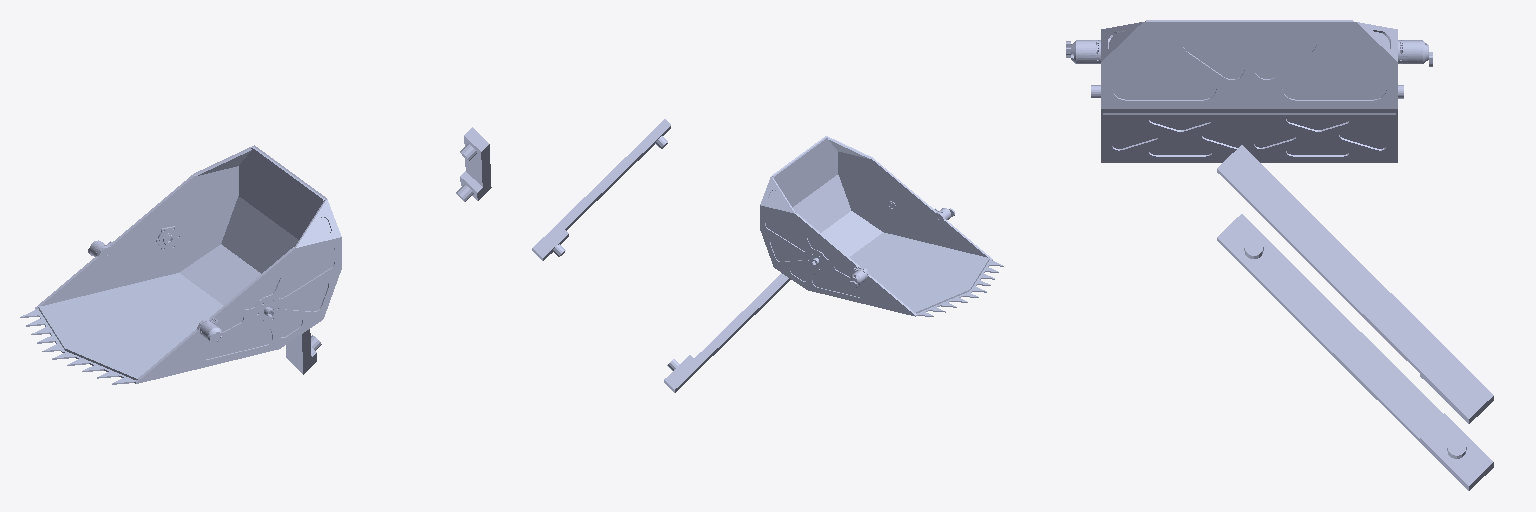
URDF robot description (URDF):
<?xml version="1.0" encoding="utf-8"?>
<!-- This URDF was automatically created by SolidWorks to URDF Exporter! Originally created by Stephen Brawner (brawner@gmail.com) 
     Commit Version: 1.6.0-4-g7f85cfe  Build Version: 1.6.7995.38578
     For more information, please see http://wiki.ros.org/sw_urdf_exporter -->
<robot
  name="URDF">
  <link
    name="base_link">
    <inertial>
      <origin
        xyz="0.182758906345787 -0.0134484847664763 0.137652991114369"
        rpy="0 0 0" />
      <mass
        value="72.4624120965553" />
      <inertia
        ixx="1.03698391979459"
        ixy="-0.000210701729020981"
        ixz="-0.116314675037364"
        iyy="2.85903838282278"
        iyz="-2.4157035399676E-05"
        izz="2.93860969077668" />
    </inertial>
    <visual>
      <origin
        xyz="0 0 0"
        rpy="0 0 0" />
      <geometry>
        <mesh
          filename="package://URDF/meshes/base_link.STL" />
      </geometry>
      <material
        name="">
        <color
          rgba="0.792156862745098 0.819607843137255 0.933333333333333 1" />
      </material>
    </visual>
    <collision>
      <origin
        xyz="0 0 0"
        rpy="0 0 0" />
      <geometry>
        <mesh
          filename="package://URDF/meshes/base_link.STL" />
      </geometry>
    </collision>
  </link>
  <link
    name="Linkage">
    <inertial>
      <origin
        xyz="0.00701003026328413 0.168459146317716 0.228641447261614"
        rpy="0 0 0" />
      <mass
        value="1.33787486310773" />
      <inertia
        ixx="0.00907006794581363"
        ixy="7.52717382370763E-06"
        ixz="-5.86003487004915E-06"
        iyy="0.00606529695807179"
        iyz="-0.00402466496126211"
        izz="0.00356221856912841" />
    </inertial>
    <visual>
      <origin
        xyz="0 0 0"
        rpy="0 0 0" />
      <geometry>
        <mesh
          filename="package://URDF/meshes/Linkage.STL" />
      </geometry>
      <material
        name="">
        <color
          rgba="0.792156862745098 0.819607843137255 0.933333333333333 1" />
      </material>
    </visual>
    <collision>
      <origin
        xyz="0 0 0"
        rpy="0 0 0" />
      <geometry>
        <mesh
          filename="package://URDF/meshes/Linkage.STL" />
      </geometry>
    </collision>
  </link>
  <joint
    name="Linkage"
    type="revolute">
    <origin
      xyz="-0.3396 0 0.23219"
      rpy="2.1933 0 -1.5708" />
    <parent
      link="base_link" />
    <child
      link="Linkage" />
    <axis
      xyz="1 0 0" />
    <limit
      lower="0"
      upper="0"
      effort="0"
      velocity="0" />
  </joint>
  <link
    name="Bucket">
    <inertial>
      <origin
        xyz="0.0063976292096917 0.0200063059045625 -0.0138039146472492"
        rpy="0 0 0" />
      <mass
        value="3.11548661864267" />
      <inertia
        ixx="0.0467750299647306"
        ixy="-6.63279180774491E-10"
        ixz="-6.63292863061454E-10"
        iyy="0.080486344523465"
        iyz="0.00940057049258649"
        izz="0.0498337285837346" />
    </inertial>
    <visual>
      <origin
        xyz="0 0 0"
        rpy="0 0 0" />
      <geometry>
        <mesh
          filename="package://URDF/meshes/Bucket.STL" />
      </geometry>
      <material
        name="">
        <color
          rgba="0.792156862745098 0.819607843137255 0.933333333333333 1" />
      </material>
    </visual>
    <collision>
      <origin
        xyz="0 0 0"
        rpy="0 0 0" />
      <geometry>
        <mesh
          filename="package://URDF/meshes/Bucket.STL" />
      </geometry>
    </collision>
  </link>
  <joint
    name="Bucket"
    type="revolute">
    <origin
      xyz="0 0.24884 0.33835"
      rpy="2.5191 0 0" />
    <parent
      link="Linkage" />
    <child
      link="Bucket" />
    <axis
      xyz="1 0 0" />
    <limit
      lower="0"
      upper="0"
      effort="0"
      velocity="0" />
  </joint>
</robot>

--- What the picture shows (computed from the rendered views, not written in the file) ---
3 views of the same robot in one strip: view 1: azimuth 30°, elevation 25°; view 2: azimuth 150°, elevation 25°; view 3: azimuth 270°, elevation 25° (orthographic).
Robot: URDF — 3 links, 2 joints (2 revolute); root link base_link; default pose: every joint at zero.
Links seen in each view (by area): view 1: Bucket, Linkage; view 2: Bucket, Linkage; view 3: Bucket, Linkage.
Boxes of the visible links, bbox=[...] form: Bucket: bbox=[20, 145, 341, 384]; Linkage: bbox=[286, 127, 491, 374]; Bucket: bbox=[760, 136, 1003, 316]; Linkage: bbox=[532, 119, 790, 392]; Bucket: bbox=[1066, 20, 1432, 162]; Linkage: bbox=[1217, 145, 1493, 490].
Size in the robot's own frame: 1.27 by 0.6219 by 0.6606 metres.
Meshes: 3 distinct files referenced, 2 mesh visuals loaded (2 binary STL); not drawn: 1 (reference not matched to a file when rendering).
